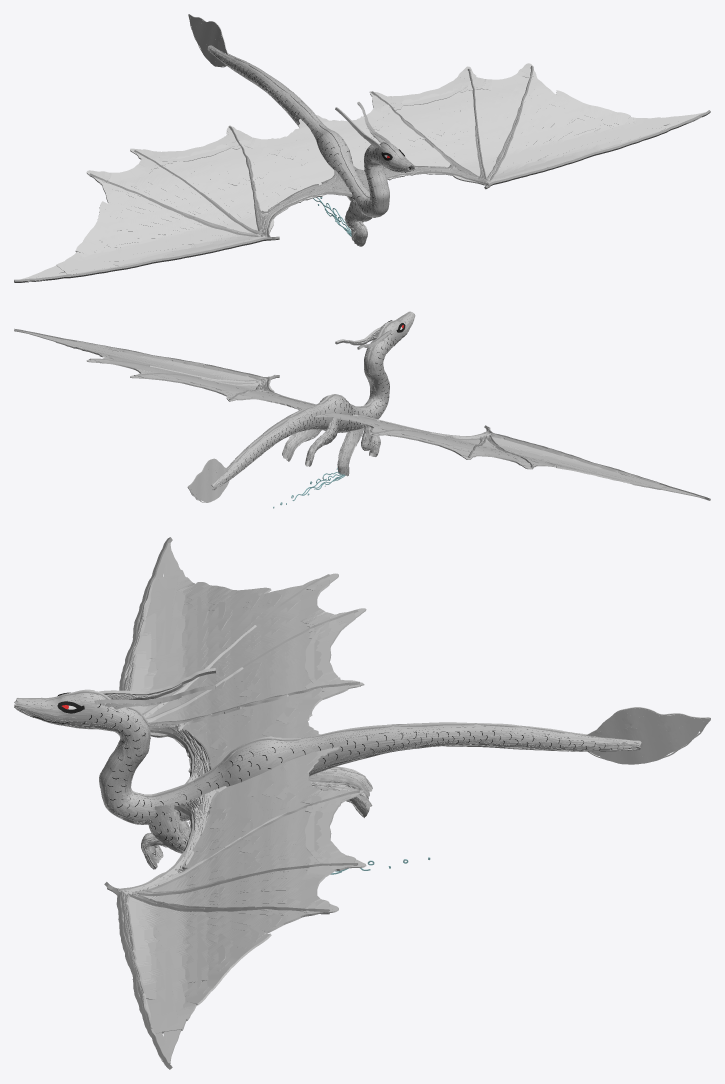
File: Dragon.glb
3 renders of one model, top to bottom at view 1: azimuth 30°, elevation 25°; view 2: azimuth 150°, elevation 25°; view 3: azimuth 270°, elevation 25°, orthographic. The views are drawn at different scales.
Parts seen in each view (by area): view 1: group_5, group_0, group_2; view 2: group_5, group_0, group_1, group_4, group_3, group_2; view 3: group_5, group_0, group_1, group_4.
Boxes of the visible parts, box(x1,y1,x2,y2) form: group_5: box(14, 14, 710, 282); group_0: box(77, 45, 659, 273); group_2: box(344, 199, 367, 246); group_5: box(14, 328, 710, 502); group_0: box(76, 311, 659, 508); group_1: box(337, 427, 364, 476); group_4: box(305, 418, 338, 466); group_3: box(282, 429, 321, 461); group_2: box(361, 417, 380, 456); group_5: box(104, 537, 710, 1069); group_0: box(14, 584, 641, 1028); group_1: box(148, 804, 188, 853); group_4: box(308, 766, 372, 799).
Size of the model in its own units: 5.91 by 1.1 by 3.29.
